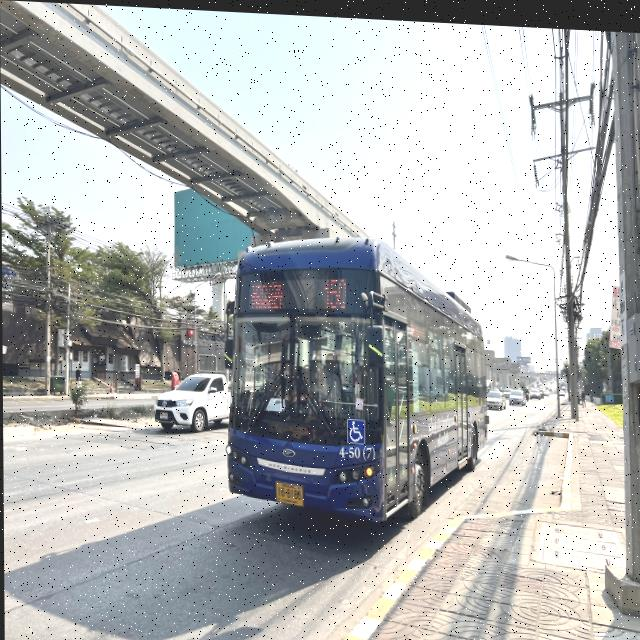Bus-Line-Number: (320, 269, 353, 311)
Destination-Sign-Normal: (247, 276, 284, 312)
TSB-Bus: (223, 229, 489, 526)
